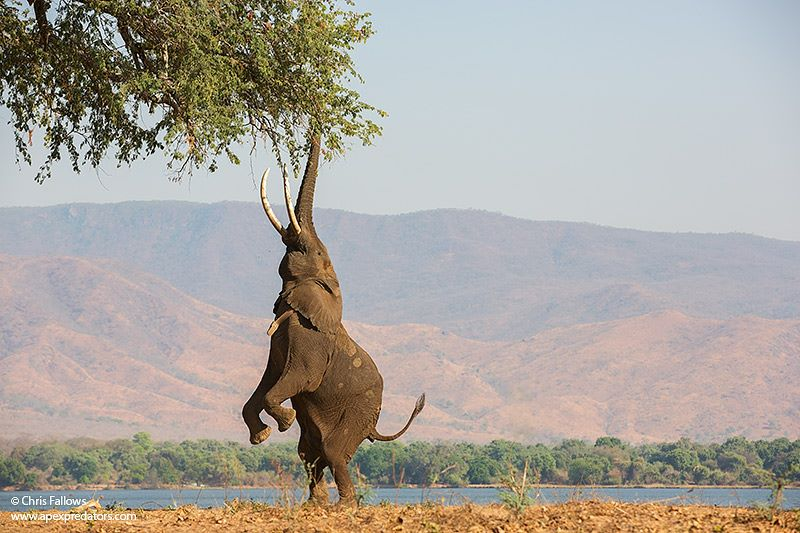elephant: (240, 79, 416, 509)
